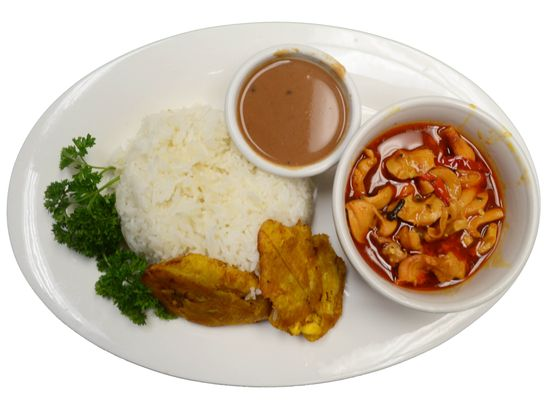curry: (42, 134, 123, 258)
sushi: (5, 19, 521, 395), (331, 97, 541, 313), (225, 45, 362, 179)
